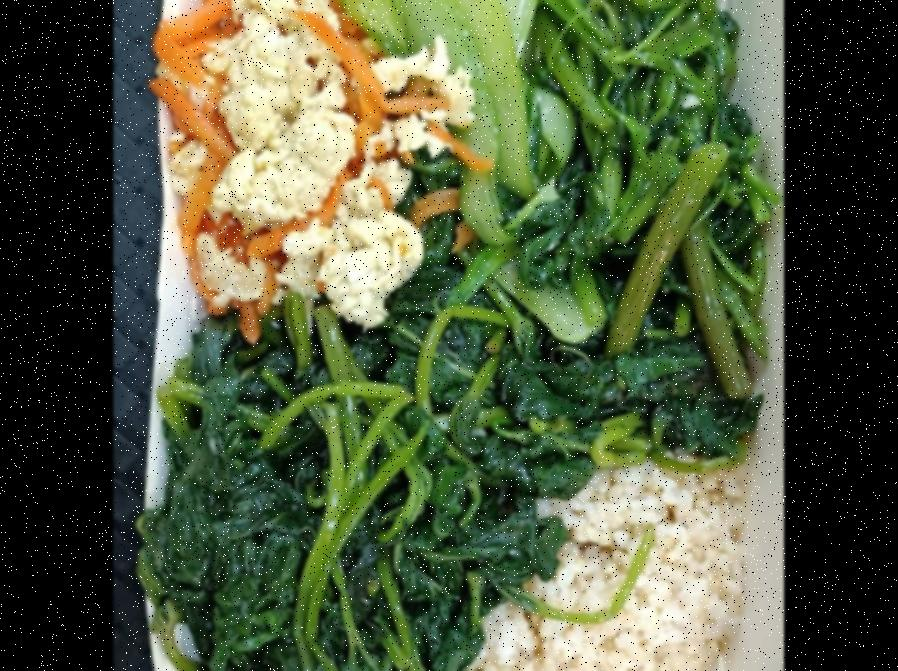box: (122, 0, 744, 671)
brown rice: (463, 445, 740, 671)
side dish: (149, 278, 753, 671), (175, 0, 408, 291), (541, 0, 757, 252), (387, 0, 568, 257)
